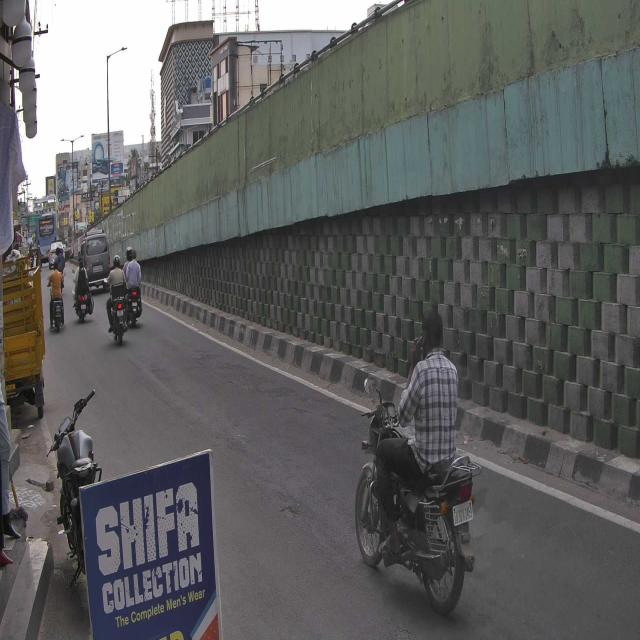single_rider: (352, 306, 478, 611)
